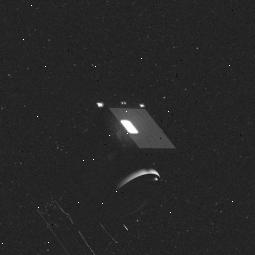proba_3_csc: (42, 92, 174, 255)
